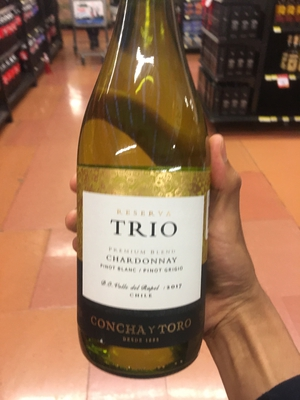trio chardonnay: (69, 28, 212, 376)
